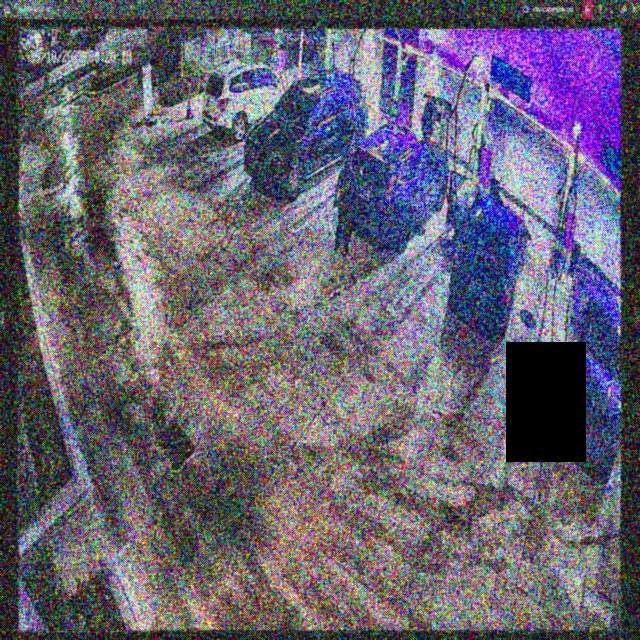Car: (243, 68, 368, 195), (446, 172, 527, 337), (343, 136, 447, 253)
